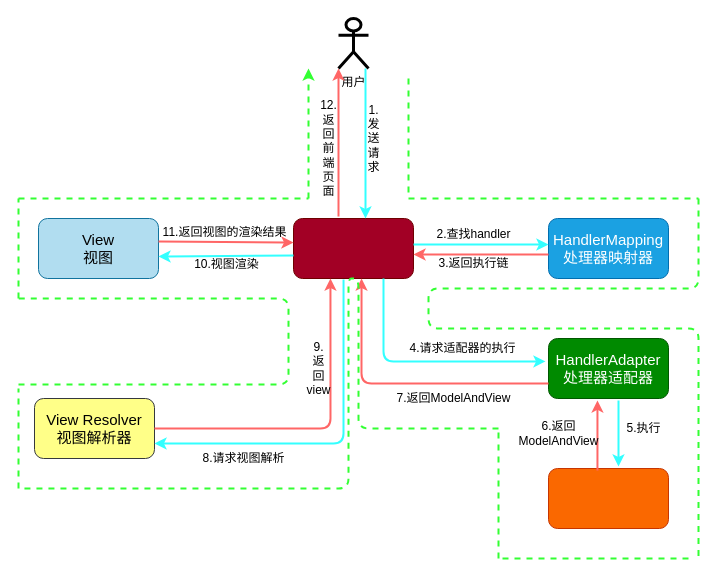
The diagram is 717 pixels wide and 578 high, and some of its shapes have lost their labels. The centre of each missing label's shape, as x and y in pixels:
"Controller 控制器" goes at point (608, 498).
"DispatcherServlet 前端控制器" goes at point (353, 248).
